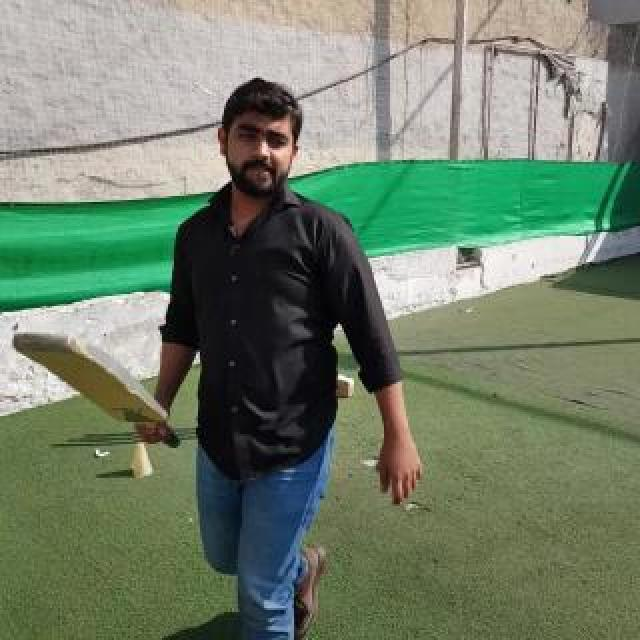bat: (14, 332, 180, 448)
